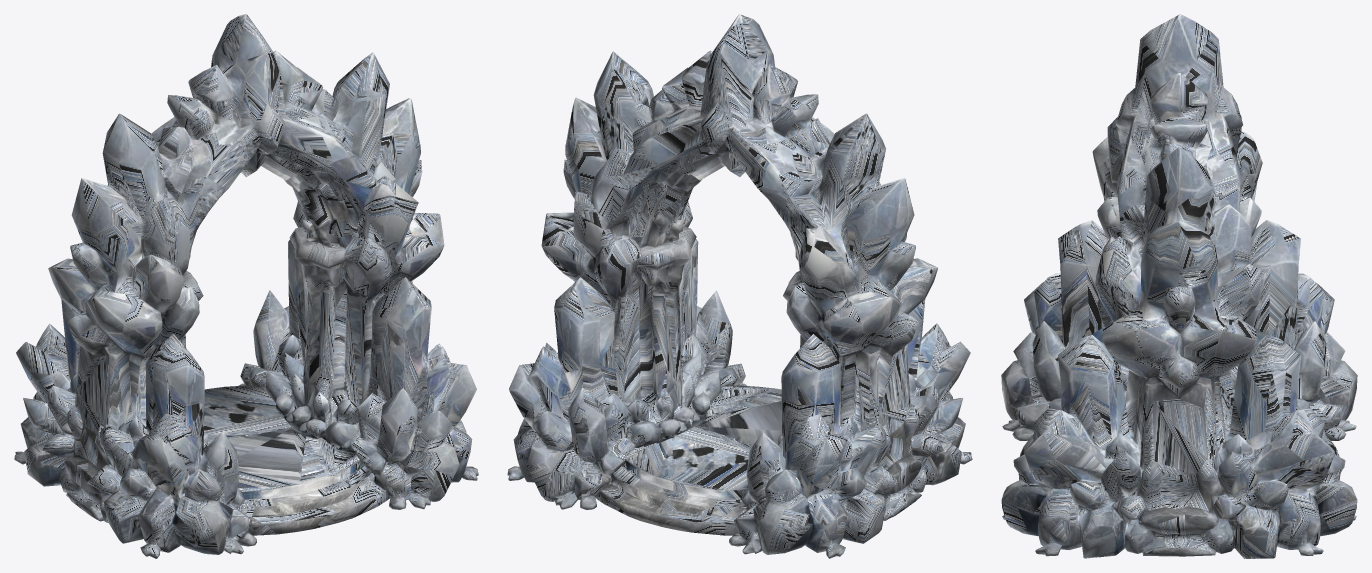
File: Crystal_Gate_of_Light.glb
3 renders of one model, left to right at view 1: azimuth 30°, elevation 25°; view 2: azimuth 150°, elevation 25°; view 3: azimuth 270°, elevation 25°, orthographic.
Parts seen in each view (by area): view 1: Crystal_Gate_of_Light; view 2: Crystal_Gate_of_Light; view 3: Crystal_Gate_of_Light.
Boxes of the visible parts, x1,y1,x2,y2 form: Crystal_Gate_of_Light: (14,14,478,558); Crystal_Gate_of_Light: (507,14,972,558); Crystal_Gate_of_Light: (1001,14,1357,558).
Bounding box in the file's own units: 1.59 × 1.9 × 1.33.
1 material, 1 textured.
